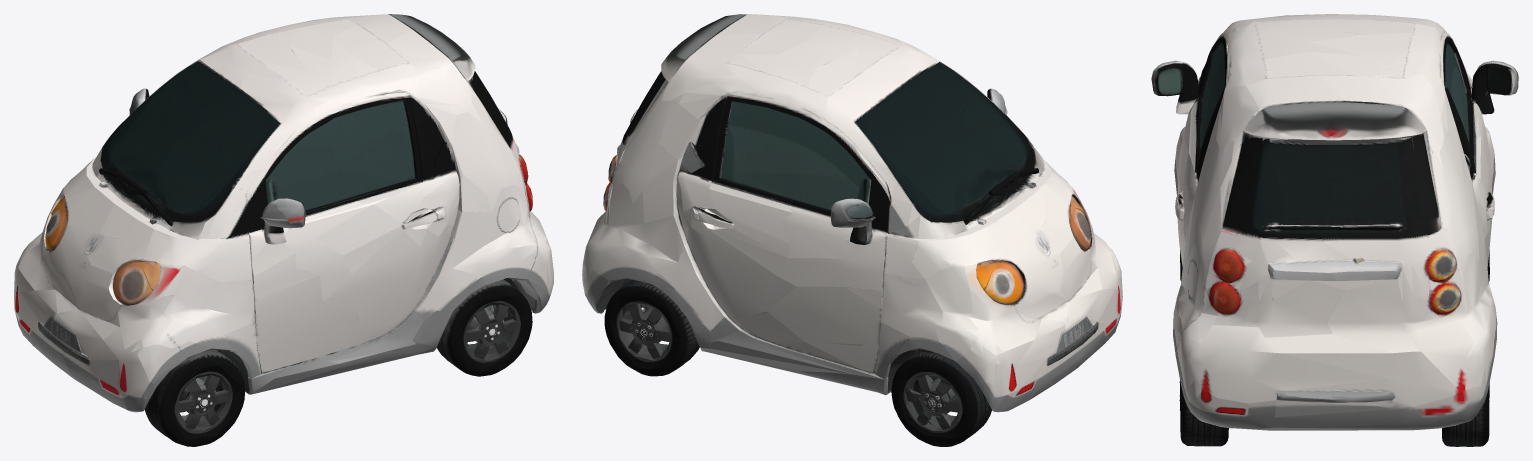
File: car.glb
3 views of the same model, side by side, from view 1: azimuth 30°, elevation 25°; view 2: azimuth 150°, elevation 25°; view 3: azimuth 270°, elevation 25° (orthographic). The views are drawn at different scales.
Size of the model in its own units: 1.9 by 1.21 by 1.17.
1 material, 1 textured.
